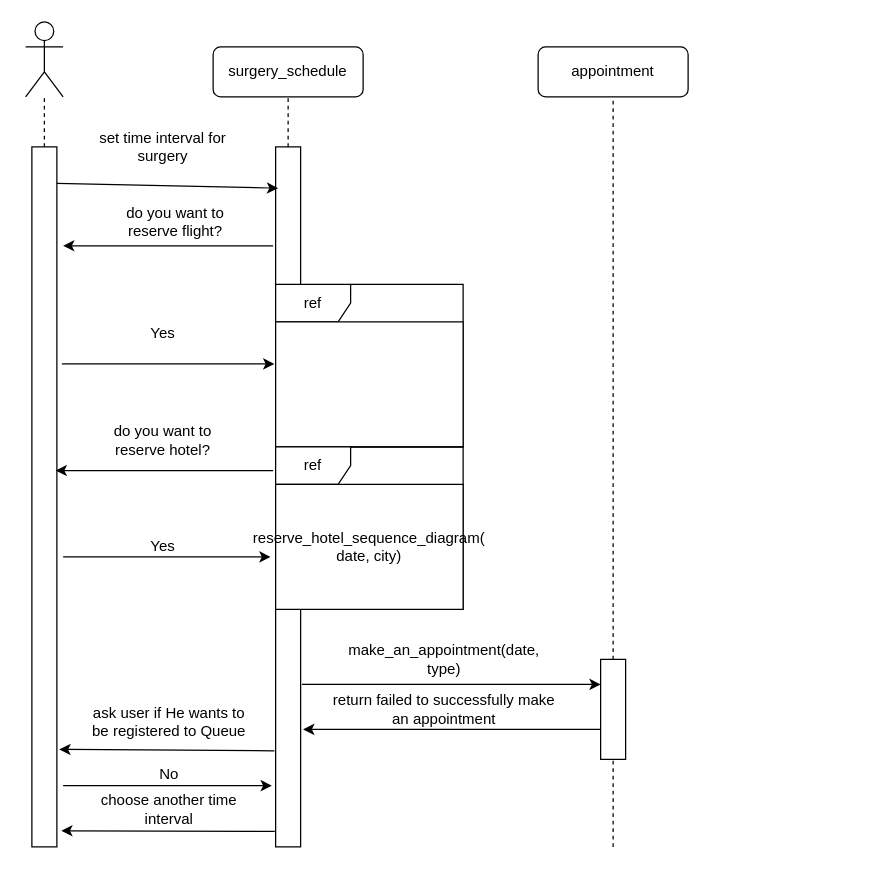
Some shapes in this 874 by 870 pixel diagram are drawn without their labels. Each missing label, with the centre of its shape:
patient: [43,59]
reserve_flight_sequence_diagram( date, city): [368,384]
